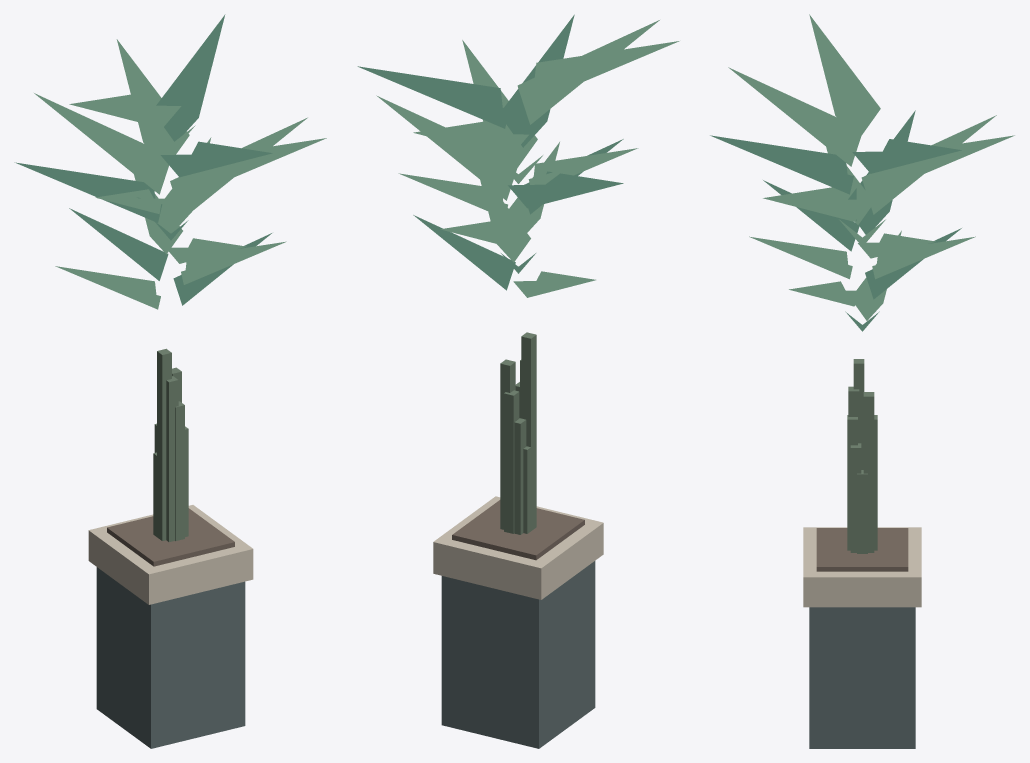
The picture shows the model from 3 angles, left to right: view 1: azimuth 30°, elevation 25°; view 2: azimuth 150°, elevation 25°; view 3: azimuth 270°, elevation 25°; orthographic projection. The views are drawn at different scales.
Parts seen in each view (by area): view 1: RG-GAME-02-INDOOR-GREENERY-V16__STANDALONE_PL01__ASSET_1F_le (×2), RG-GAME-02-INDOOR-GREENERY-V16__STANDALONE_PL01__ASSET_1F_bl, RG-GAME-02-INDOOR-GREENERY-V16__STANDALONE_PL01__ASSET_1F_ri, RG-GAME-02-INDOOR-GREENERY-V16__STANDALONE_PL01__ASSET_1F_st, RG-GAME-02-INDOOR-GREENERY-V16__STANDALONE_PL01__ASSET_1F_so; view 2: RG-GAME-02-INDOOR-GREENERY-V16__STANDALONE_PL01__ASSET_1F_le (×2), RG-GAME-02-INDOOR-GREENERY-V16__STANDALONE_PL01__ASSET_1F_bl, RG-GAME-02-INDOOR-GREENERY-V16__STANDALONE_PL01__ASSET_1F_ri, RG-GAME-02-INDOOR-GREENERY-V16__STANDALONE_PL01__ASSET_1F_st, RG-GAME-02-INDOOR-GREENERY-V16__STANDALONE_PL01__ASSET_1F_so; view 3: RG-GAME-02-INDOOR-GREENERY-V16__STANDALONE_PL01__ASSET_1F_le (×2), RG-GAME-02-INDOOR-GREENERY-V16__STANDALONE_PL01__ASSET_1F_bl, RG-GAME-02-INDOOR-GREENERY-V16__STANDALONE_PL01__ASSET_1F_ri, RG-GAME-02-INDOOR-GREENERY-V16__STANDALONE_PL01__ASSET_1F_st, RG-GAME-02-INDOOR-GREENERY-V16__STANDALONE_PL01__ASSET_1F_so.
Boxes of the visible parts, <box> form: RG-GAME-02-INDOOR-GREENERY-V16__STANDALONE_PL01__ASSET_1F_le (×2): <box>14,14,326,309</box>; RG-GAME-02-INDOOR-GREENERY-V16__STANDALONE_PL01__ASSET_1F_bl: <box>96,567,245,748</box>; RG-GAME-02-INDOOR-GREENERY-V16__STANDALONE_PL01__ASSET_1F_ri: <box>88,505,253,604</box>; RG-GAME-02-INDOOR-GREENERY-V16__STANDALONE_PL01__ASSET_1F_st: <box>153,348,188,541</box>; RG-GAME-02-INDOOR-GREENERY-V16__STANDALONE_PL01__ASSET_1F_so: <box>107,508,234,566</box>; RG-GAME-02-INDOOR-GREENERY-V16__STANDALONE_PL01__ASSET_1F_le (×2): <box>357,14,679,297</box>; RG-GAME-02-INDOOR-GREENERY-V16__STANDALONE_PL01__ASSET_1F_bl: <box>441,561,595,748</box>; RG-GAME-02-INDOOR-GREENERY-V16__STANDALONE_PL01__ASSET_1F_ri: <box>433,496,603,599</box>; RG-GAME-02-INDOOR-GREENERY-V16__STANDALONE_PL01__ASSET_1F_st: <box>500,332,536,534</box>; RG-GAME-02-INDOOR-GREENERY-V16__STANDALONE_PL01__ASSET_1F_so: <box>452,500,584,560</box>; RG-GAME-02-INDOOR-GREENERY-V16__STANDALONE_PL01__ASSET_1F_le (×2): <box>710,14,1014,331</box>; RG-GAME-02-INDOOR-GREENERY-V16__STANDALONE_PL01__ASSET_1F_bl: <box>809,607,915,748</box>; RG-GAME-02-INDOOR-GREENERY-V16__STANDALONE_PL01__ASSET_1F_ri: <box>803,527,921,607</box>; RG-GAME-02-INDOOR-GREENERY-V16__STANDALONE_PL01__ASSET_1F_st: <box>847,359,877,553</box>; RG-GAME-02-INDOOR-GREENERY-V16__STANDALONE_PL01__ASSET_1F_so: <box>816,528,908,571</box>.
Bounding box in the file's own units: 0.7307 × 1.74 × 0.742.
